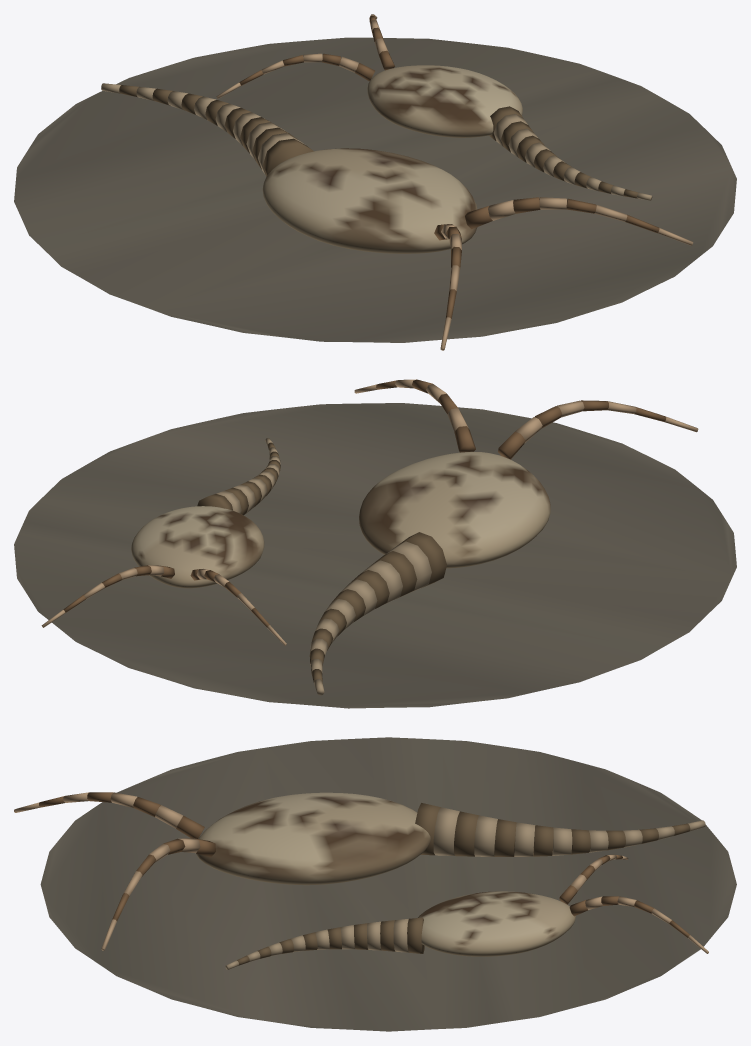
File: PleurocystitesSquamosus.fbx
3 views of the same model, one above another, from view 1: azimuth 30°, elevation 25°; view 2: azimuth 150°, elevation 25°; view 3: azimuth 270°, elevation 25° (orthographic). The views are drawn at different scales.
Parts seen in each view (by area): view 1: PleurocystitesSquamosus; view 2: PleurocystitesSquamosus; view 3: PleurocystitesSquamosus.
Boxes of the visible parts, x1,y1,x2,y2 form: PleurocystitesSquamosus: [14, 14, 736, 350]; PleurocystitesSquamosus: [14, 379, 736, 708]; PleurocystitesSquamosus: [14, 737, 736, 1031].
Bounding box in the file's own units: 2.3 × 0.2283 × 2.39.
